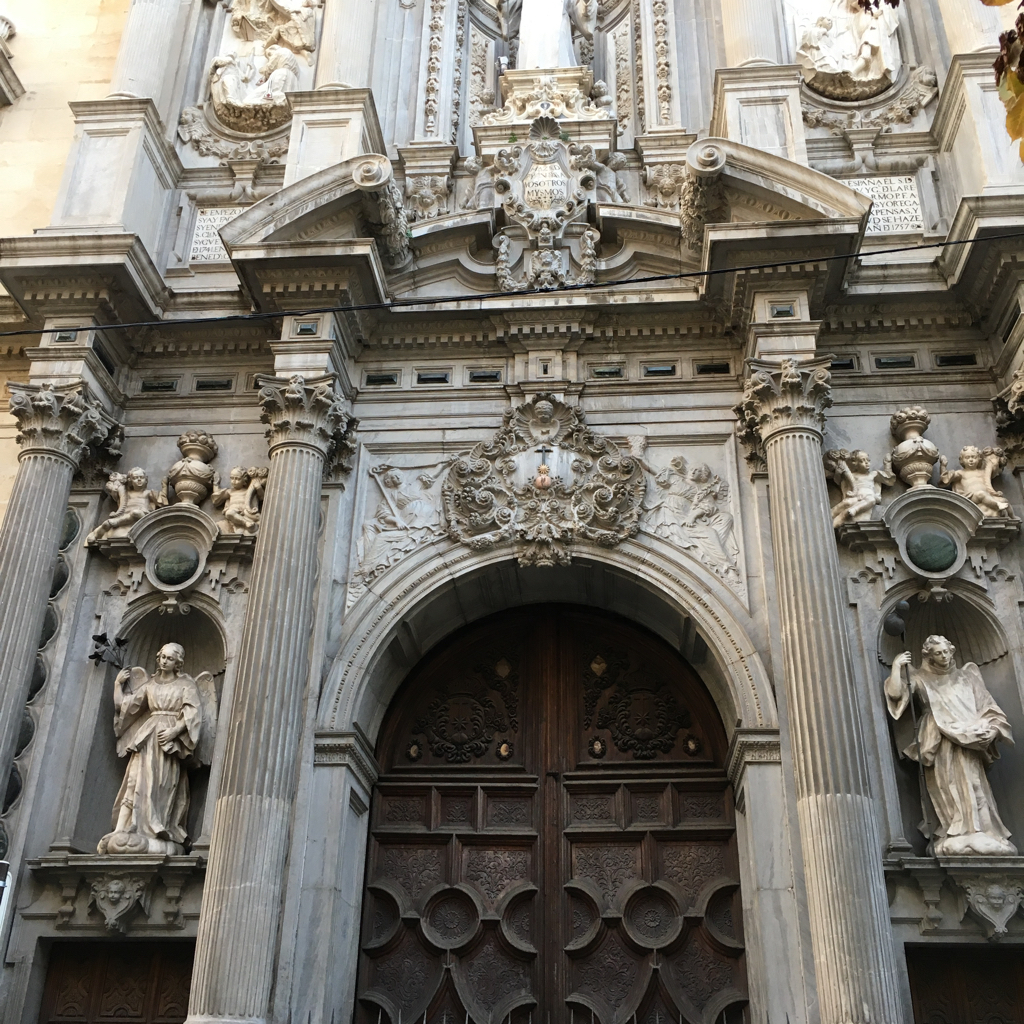arco-medio-punto: (333, 541, 761, 791)
fronton-partido: (214, 135, 874, 266)
